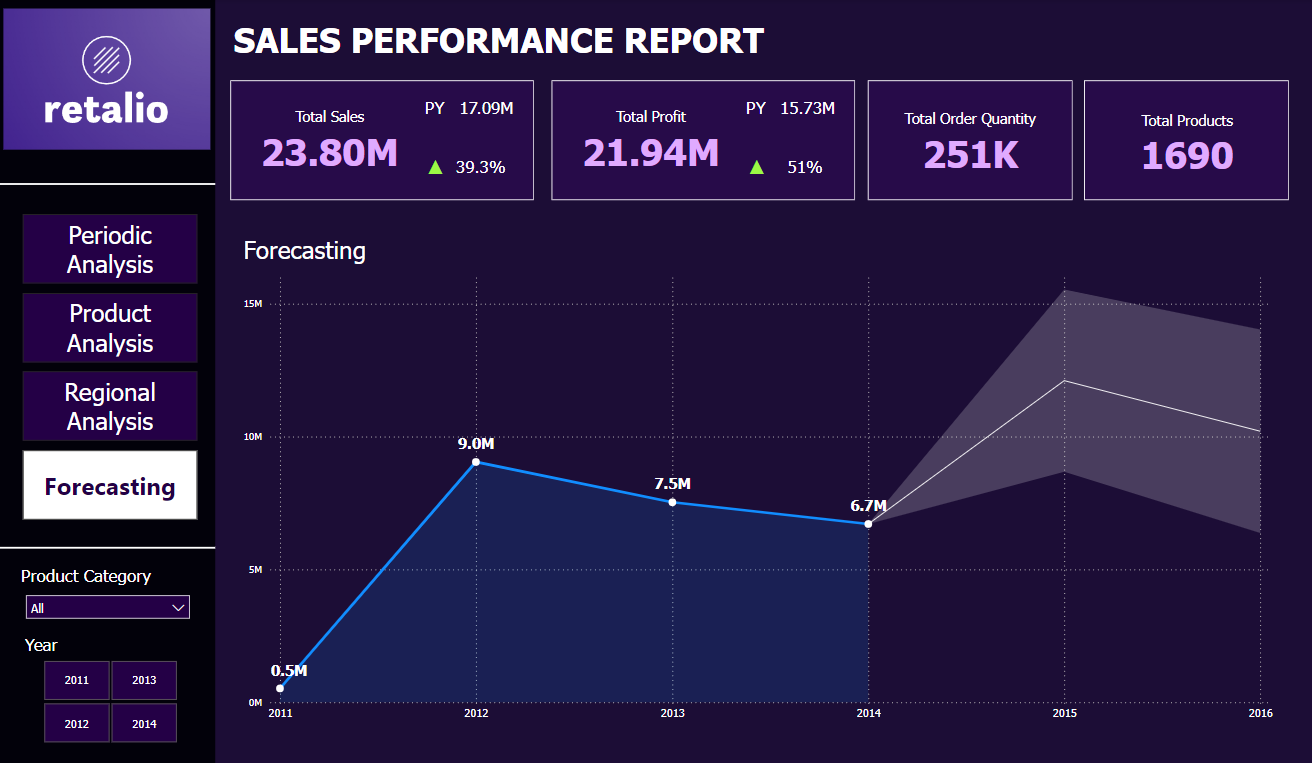

Layout of this report page (visuals, bound fields, positions):
{"tool":"powerbi","page":{"name":"Forecasting","canvas":[1440,840],"ordinal":3},"visuals":[{"type":"shape","box":[1186.7,88.9,224.2,131.3],"z":0},{"type":"shape","box":[950.2,88.9,224.2,131.3],"z":1000},{"type":"shape","box":[0,0,236.5,839.5],"z":2000},{"type":"textbox","box":[251.6,16.4,616.6,60.2],"z":3000},{"type":"card","title":"Total Order Quantity","fields":{"Values":["Sum(Sales_Data.Order Qty)"]},"box":[963.9,116.2,196.9,80.7],"z":4000},{"type":"card","title":"Total Products","fields":{"Values":["CountNonNull(Sales_Product.ProductKey)"]},"box":[1200.4,117.6,198.2,80.7],"z":5000},{"type":"pageNavigator","box":[26,235.2,191.4,336.3],"z":6000},{"type":"slicer","title":"Product Category","fields":{"Values":["Sales_Prod_Sub_Cat.Product Category"]},"box":[19.1,619.3,199.6,75.2],"z":7000},{"type":"slicer","title":"Year","fields":{"Values":["Date.Date.Variation.Date Hierarchy.Year"]},"box":[23.2,694.5,195.5,125.8],"z":8000},{"type":"shape","box":[0,590.6,236.5,19.1],"z":9000},{"type":"shape","box":[0,192.8,236.5,19.1],"z":10000},{"type":"image","box":[0,0,236.5,175],"z":11000},{"type":"shape","box":[252.9,88.9,332.2,131.3],"z":12000},{"type":"card","title":"Total Sales","fields":{"Values":["Sales_Data.Total Sales"]},"box":[262.5,113.5,198.2,80.7],"z":13000},{"type":"card","fields":{"Values":["Sales_Data.Sales YoY%"]},"box":[481.3,168.2,91.6,34.2],"z":14000},{"type":"card","fields":{"Values":["Sales_Data.Sales_Icon"]},"box":[460.7,168.2,32.8,34.2],"z":15000},{"type":"card","fields":{"Values":["Sales_Data.Sales LY"]},"box":[493.6,103.9,79.3,34.2],"z":16000},{"type":"textbox","box":[460.7,102.5,39.6,32.8],"z":17000},{"type":"shape","box":[604.2,89,332.2,131.3],"z":18000},{"type":"card","title":"Total Profit","fields":{"Values":["Sales_Data.Total Profit"]},"box":[613.8,113.6,198.2,80.7],"z":19000},{"type":"card","fields":{"Values":["Sales_Data.Profit YoY%"]},"box":[842.2,168.2,79.3,34.2],"z":20000},{"type":"card","fields":{"Values":["Sales_Data.Profit_Icon"]},"box":[812.1,168.2,32.8,34.2],"z":21000},{"type":"card","fields":{"Values":["Sales_Data.Profit LY"]},"box":[844.8,104.1,79.3,34.2],"z":22000},{"type":"textbox","box":[812,102.7,39.6,32.8],"z":23000},{"type":"lineChart","title":"Forecasting","fields":{"Y":["Sales_Data.Total Sales"],"Category":["Date.Date.Variation.Date Hierarchy.Year","Date.Date.Variation.Date Hierarchy.Quarter","Date.Date.Variation.Date Hierarchy.Month","Date.Date.Variation.Date Hierarchy.Day"]},"box":[262.5,258.4,1136.2,540],"z":24000}]}

Visuals, with their boxes in screenshot pixels (x1, y1, x2, y2), scaled from the page's 1440x840 canvas onto the 1312x763 screenshot:
shape: 1081 81 1285 200
shape: 866 81 1070 200
shape: 0 0 215 762
textbox: 229 15 791 70
"Total Order Quantity" card: 878 106 1058 179
"Total Products" card: 1094 107 1274 180
pageNavigator: 24 214 198 519
"Product Category" slicer: 17 563 199 631
"Year" slicer: 21 631 199 745
shape: 0 536 215 554
shape: 0 175 215 192
image: 0 0 215 159
shape: 230 81 533 200
"Total Sales" card: 239 103 420 176
card - Sales_Data.Sales YoY%: 439 153 522 184
card - Sales_Data.Sales_Icon: 420 153 450 184
card - Sales_Data.Sales LY: 450 94 522 125
textbox: 420 93 456 123
shape: 550 81 853 200
"Total Profit" card: 559 103 740 176
card - Sales_Data.Profit YoY%: 767 153 840 184
card - Sales_Data.Profit_Icon: 740 153 770 184
card - Sales_Data.Profit LY: 770 95 842 126
textbox: 740 93 776 123
"Forecasting" lineChart: 239 235 1274 725
